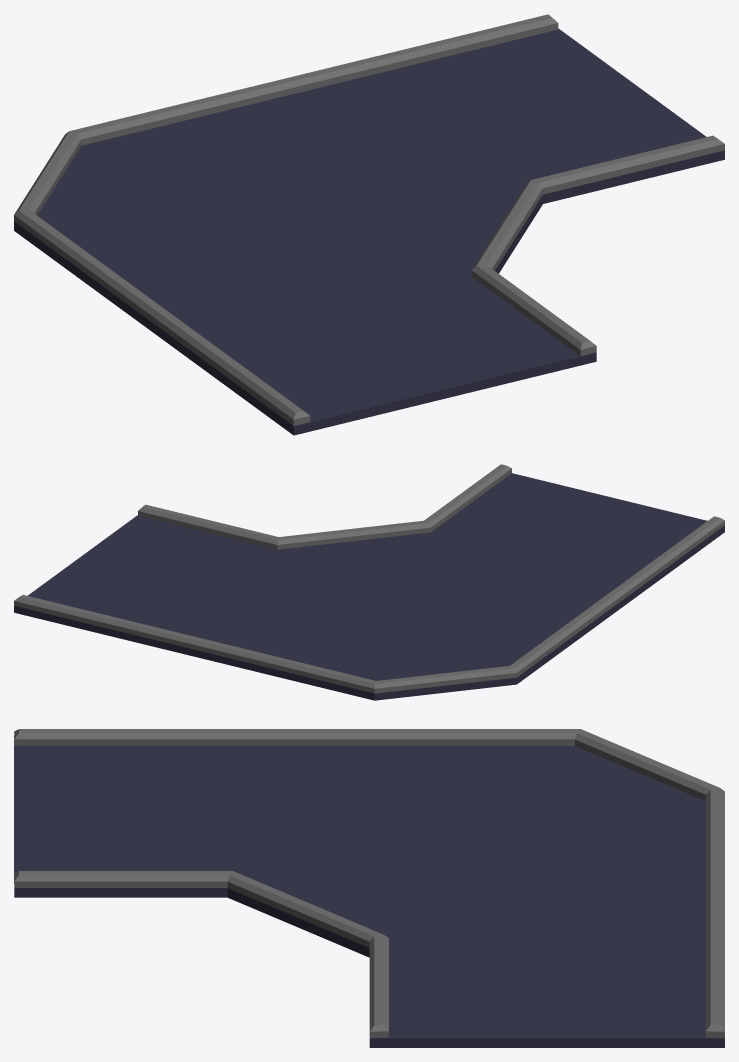
File: Road2.fbx
3 renders of one model, top to bottom at view 1: azimuth 30°, elevation 25°; view 2: azimuth 150°, elevation 25°; view 3: azimuth 270°, elevation 25°, orthographic. The views are drawn at different scales.
Visible parts, largest first — view 1: Road2; view 2: Road2; view 3: Road2.
Boxes of the visible parts, x1,y1,x2,y2 form: Road2: (14, 14, 724, 435); Road2: (14, 464, 724, 700); Road2: (14, 729, 724, 1047).
Bounding box in the file's own units: 1093 × 34.7 × 1094.
